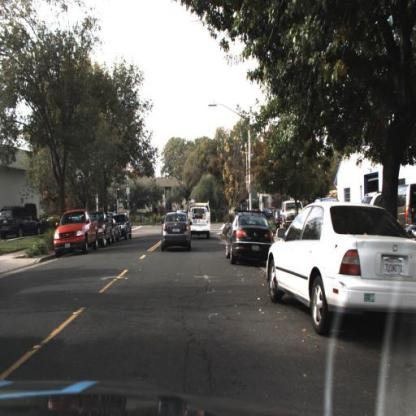car: (266, 199, 416, 337), (224, 208, 276, 265), (226, 209, 275, 265), (52, 207, 99, 260), (2, 206, 44, 242), (160, 208, 192, 253), (186, 197, 213, 239), (277, 198, 307, 235), (91, 208, 116, 249), (113, 210, 135, 244)
truck: (189, 203, 212, 239)
